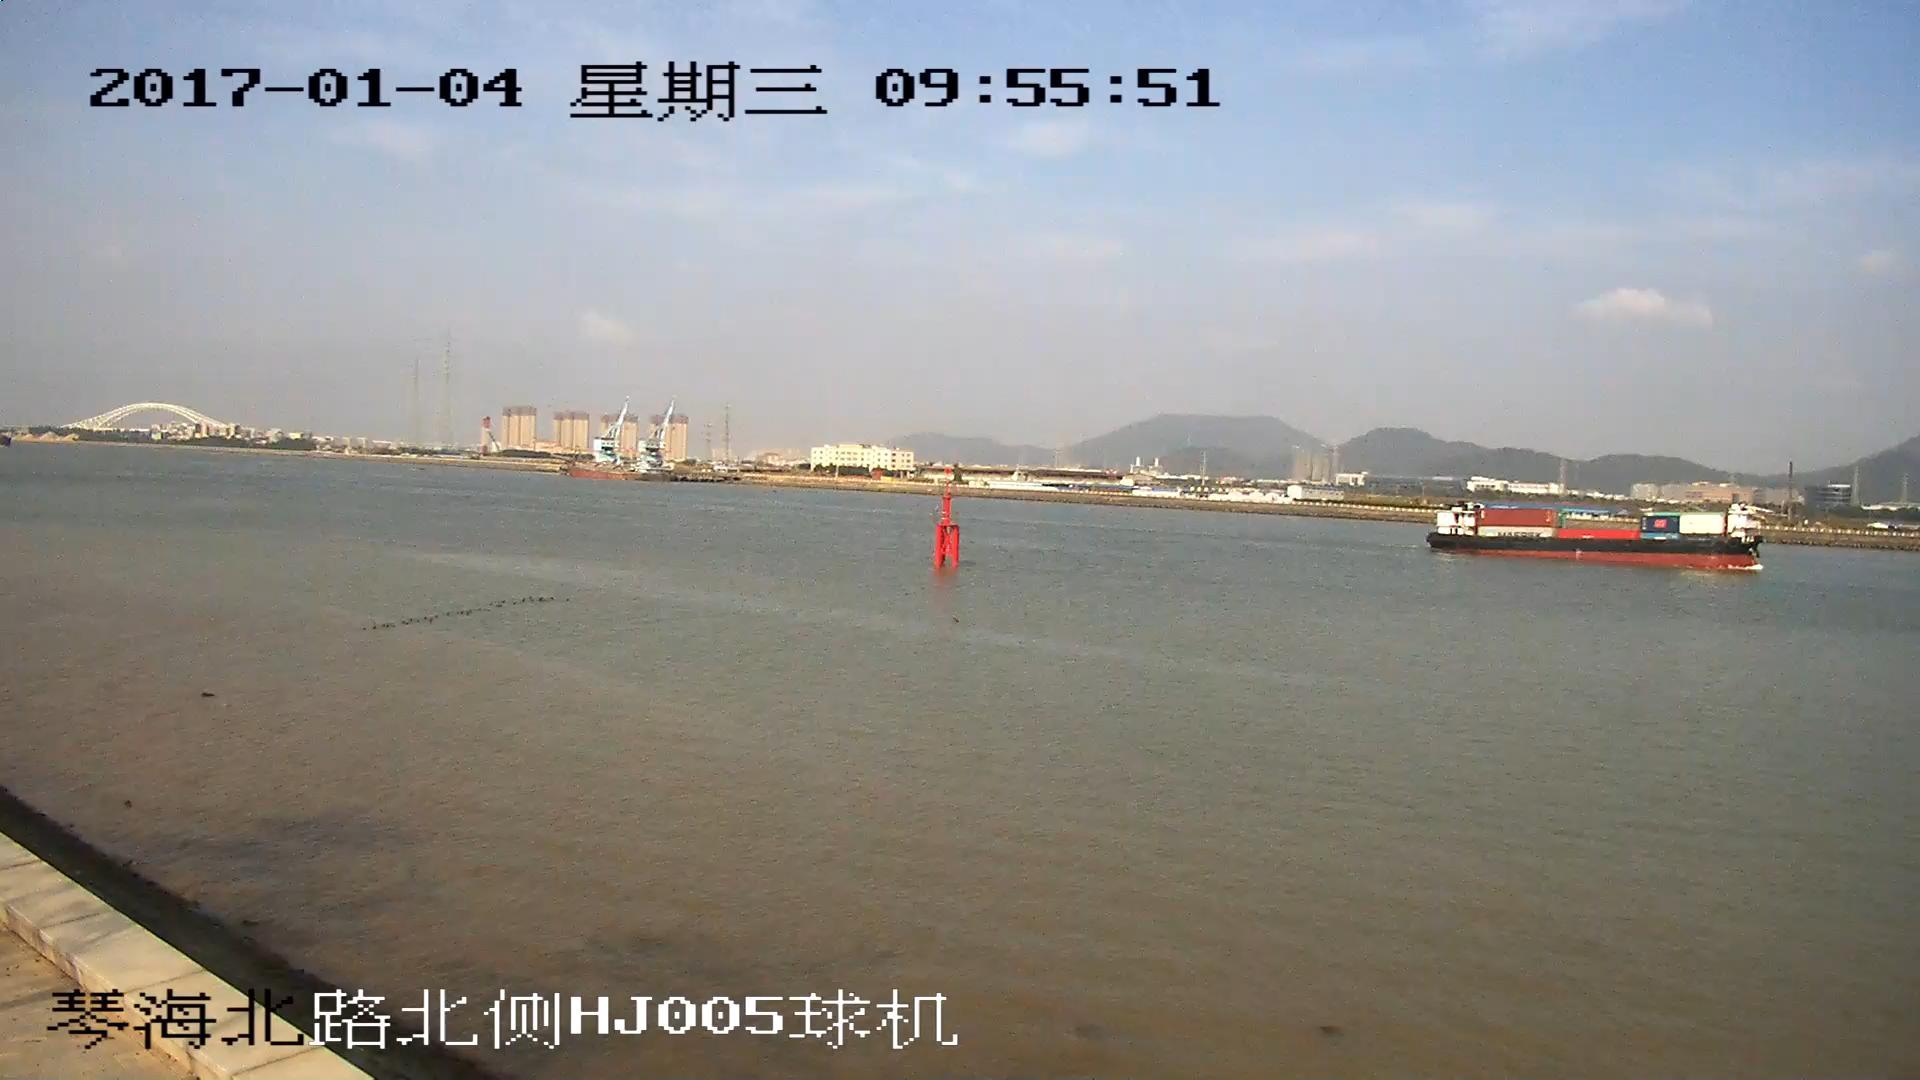Ship: (1427, 501, 1760, 574)
